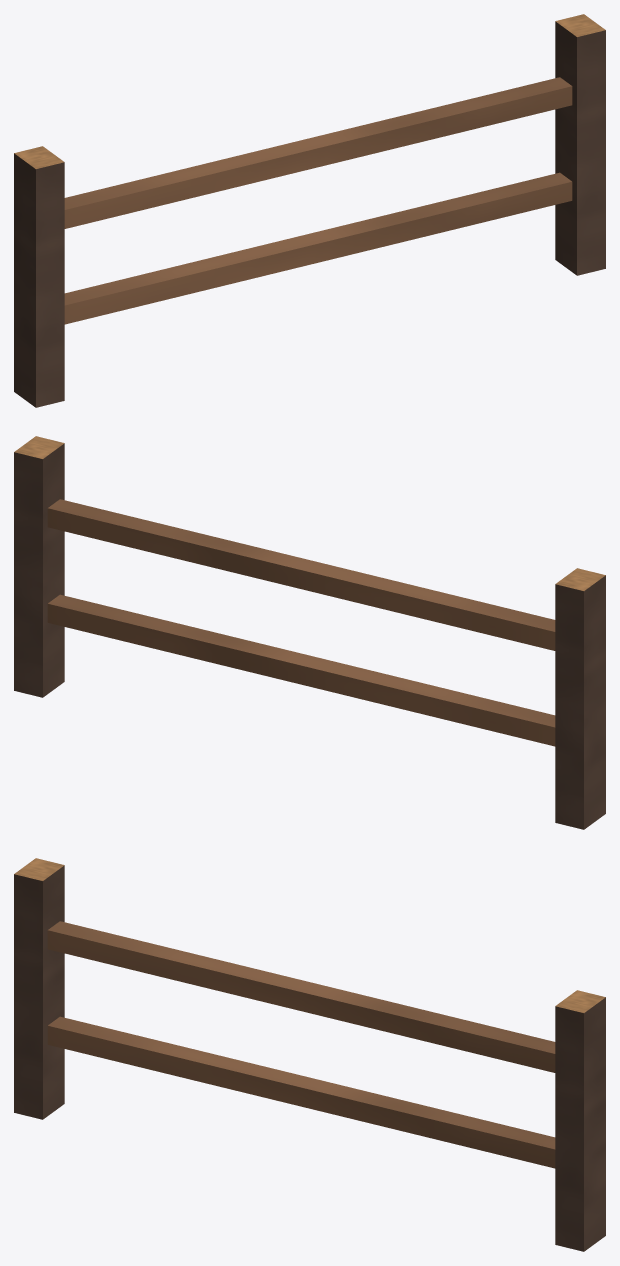
The model's file is fence_wood_straight.fbx.
3 views of the same model, one above another, from view 1: azimuth 30°, elevation 25°; view 2: azimuth 150°, elevation 25°; view 3: azimuth 330°, elevation 25° (orthographic).
Visible parts, largest first — view 1: fence_wood_straight; view 2: fence_wood_straight; view 3: fence_wood_straight.
Boxes of the visible parts, x1=… form: fence_wood_straight: x1=14, y1=14, x2=605, y2=407; fence_wood_straight: x1=14, y1=436, x2=605, y2=829; fence_wood_straight: x1=14, y1=858, x2=605, y2=1251.
Size of the model in its own units: 300 by 120 by 20.
Materials: 1 (1 with a texture image).
